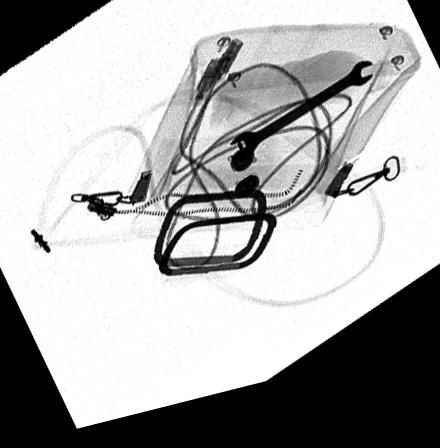Wrench: (127, 43, 392, 352)
